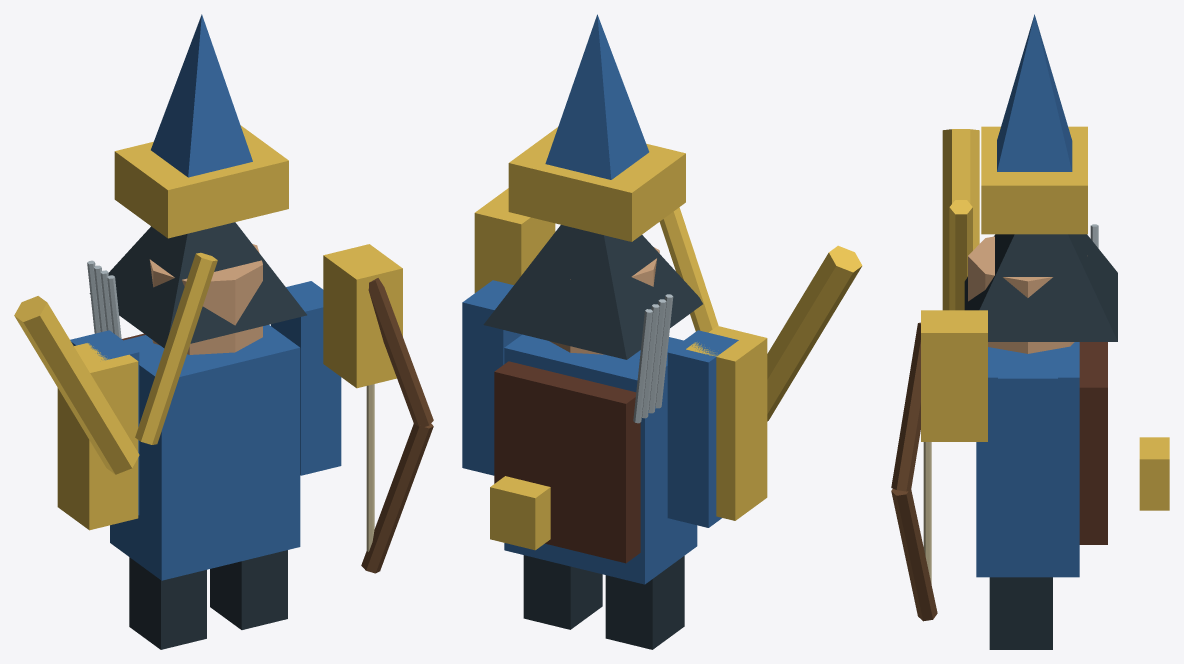
File: stone-slinger.obj
The picture shows the model from 3 angles, left to right: view 1: azimuth 30°, elevation 25°; view 2: azimuth 150°, elevation 25°; view 3: azimuth 270°, elevation 25°; orthographic projection.
Visible parts, largest first — view 1: ranged; view 2: ranged; view 3: ranged.
Part boxes in pixels (x1,y1,x2,y2): ranged: (14, 14, 433, 649); ranged: (462, 14, 862, 649); ranged: (891, 14, 1169, 649).
Size of the model in its own units: 1.33 by 2 by 0.8346.
